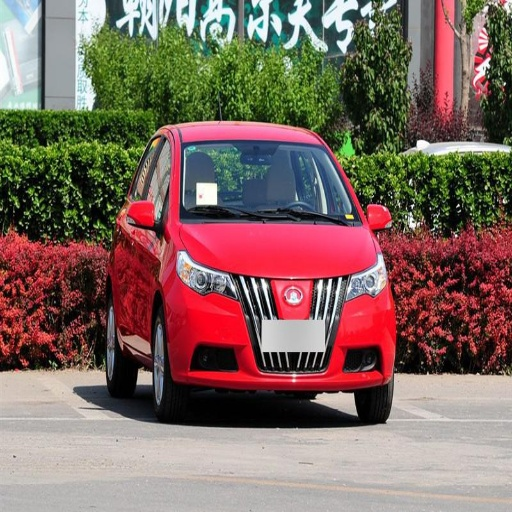front_bumper: (169, 274, 396, 387)
front_left_light: (337, 260, 388, 301)
front_right_door: (129, 133, 176, 335)
front_right_light: (178, 255, 238, 299)
hood: (184, 226, 376, 277)
